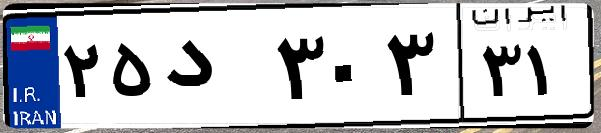0: (330, 28, 385, 110)
1: (525, 38, 570, 115)
2: (57, 26, 110, 100)
3: (270, 28, 330, 110), (385, 28, 445, 110), (475, 38, 525, 113)
5: (110, 28, 158, 98)
د: (158, 20, 270, 120)
